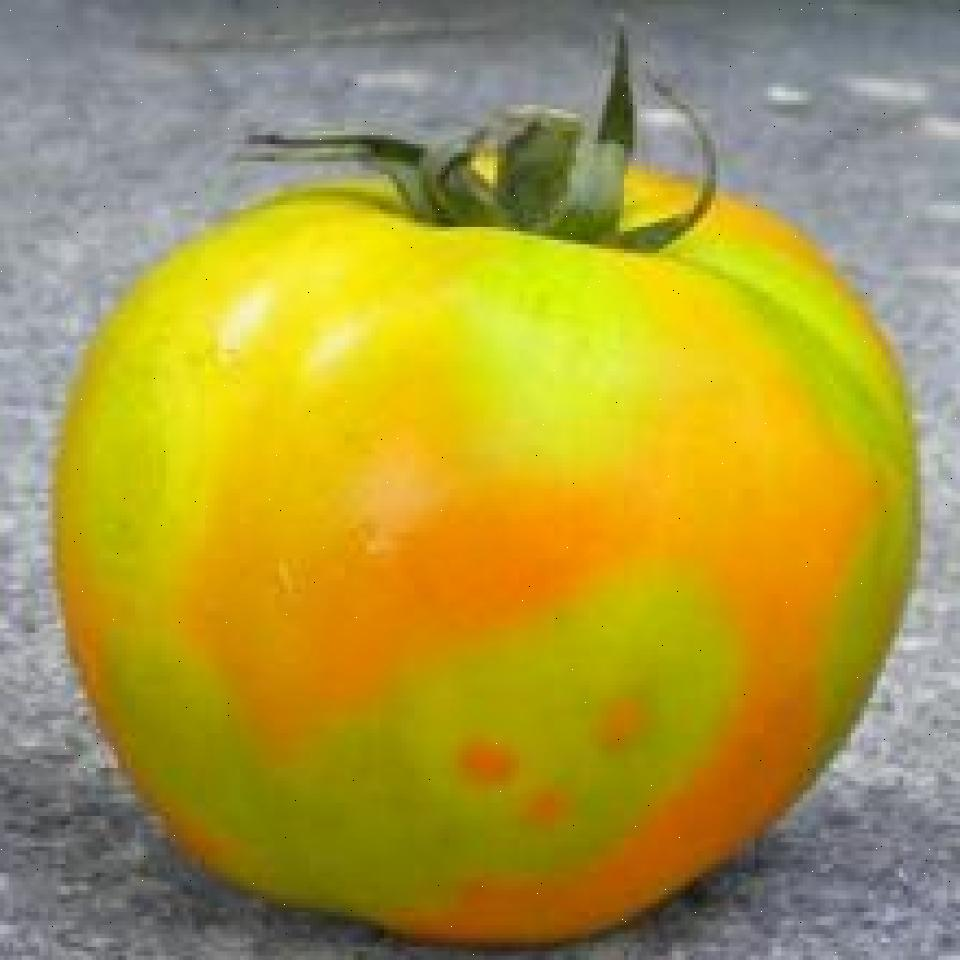Spotted wilt Virus: (48, 137, 924, 948)
